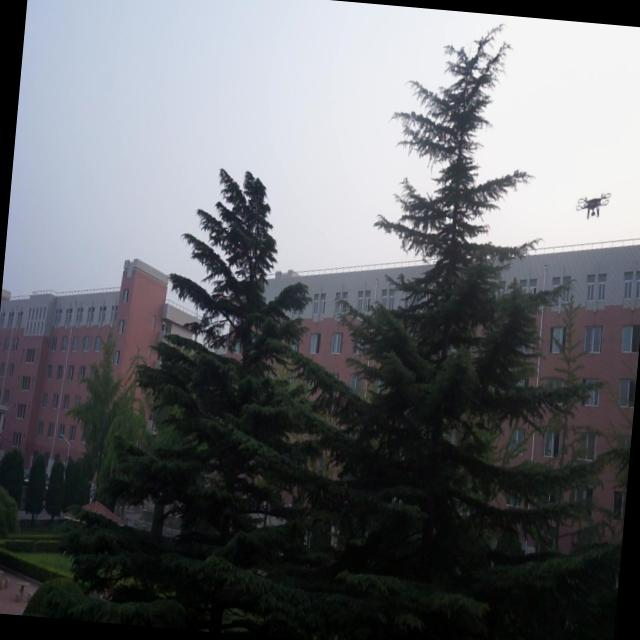drone: (572, 186, 610, 224)
